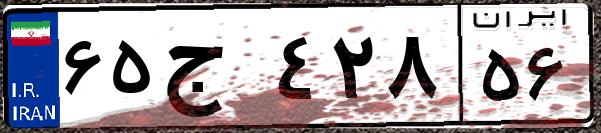2: (330, 28, 385, 110)
4: (270, 28, 330, 110)
5: (475, 38, 525, 113), (110, 28, 158, 98)
6: (57, 26, 110, 100), (525, 38, 570, 115)
8: (385, 28, 445, 110)
ج: (158, 20, 270, 120)
